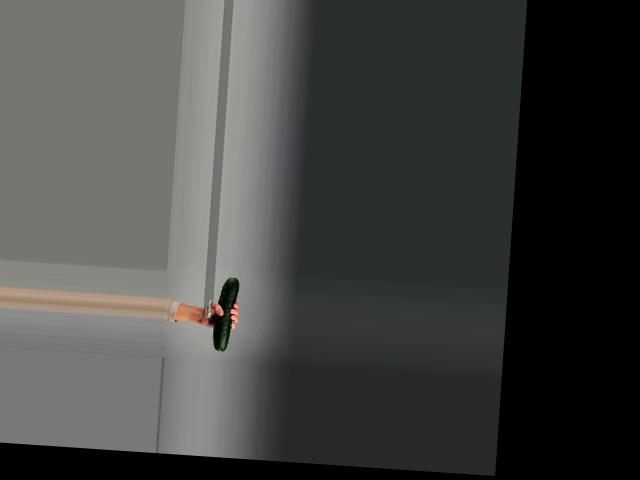cucumber: (212, 276, 239, 350)
